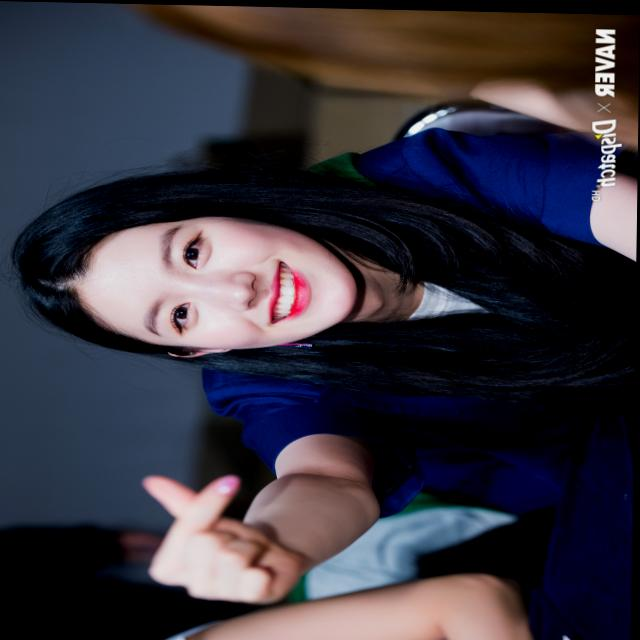face: (20, 187, 374, 366)
